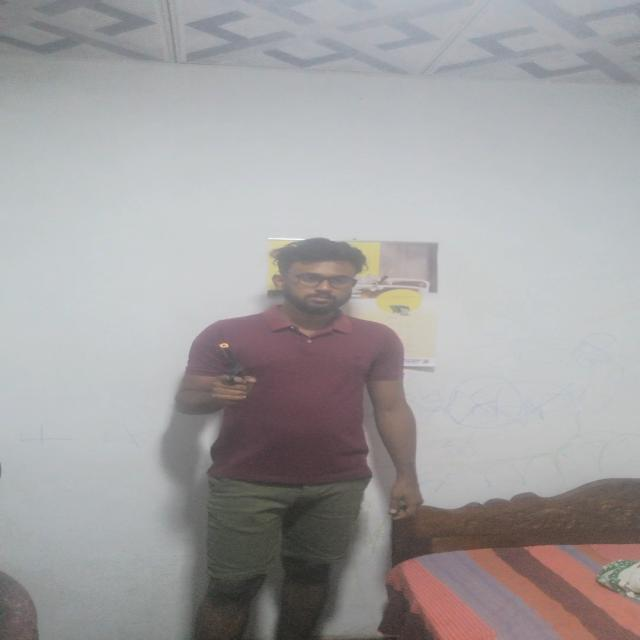Gun_Holder: (202, 339, 268, 403)
Person: (178, 239, 416, 640)
